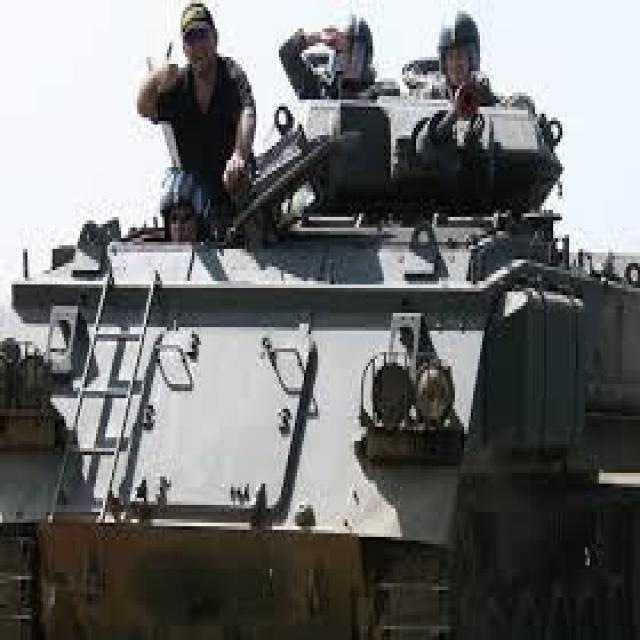Tanks: (21, 98, 620, 634)
